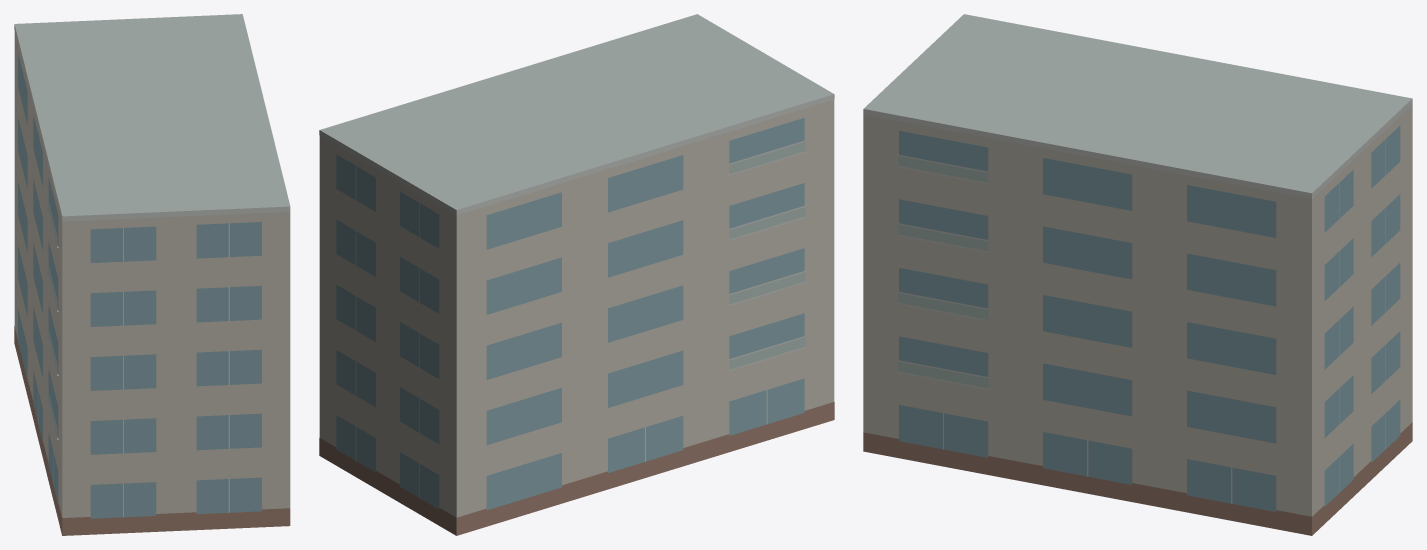
The model's file is survey-upis-32669219.glb.
3 renders of one model, left to right at view 1: azimuth 30°, elevation 25°; view 2: azimuth 150°, elevation 25°; view 3: azimuth 270°, elevation 25°, orthographic. The views are drawn at different scales.
Parts seen in each view (by area): view 1: survey-upis-32669219.tmp; view 2: survey-upis-32669219.tmp; view 3: survey-upis-32669219.tmp.
Part boxes in pixels (x1,y1,x2,y2): survey-upis-32669219.tmp: (14, 14, 290, 535); survey-upis-32669219.tmp: (319, 14, 834, 535); survey-upis-32669219.tmp: (863, 14, 1412, 535).
Size of the model in its own units: 16.62 by 14.8 by 21.51.
